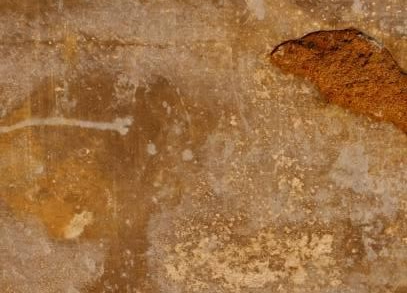Corrosion: (268, 25, 407, 135)
